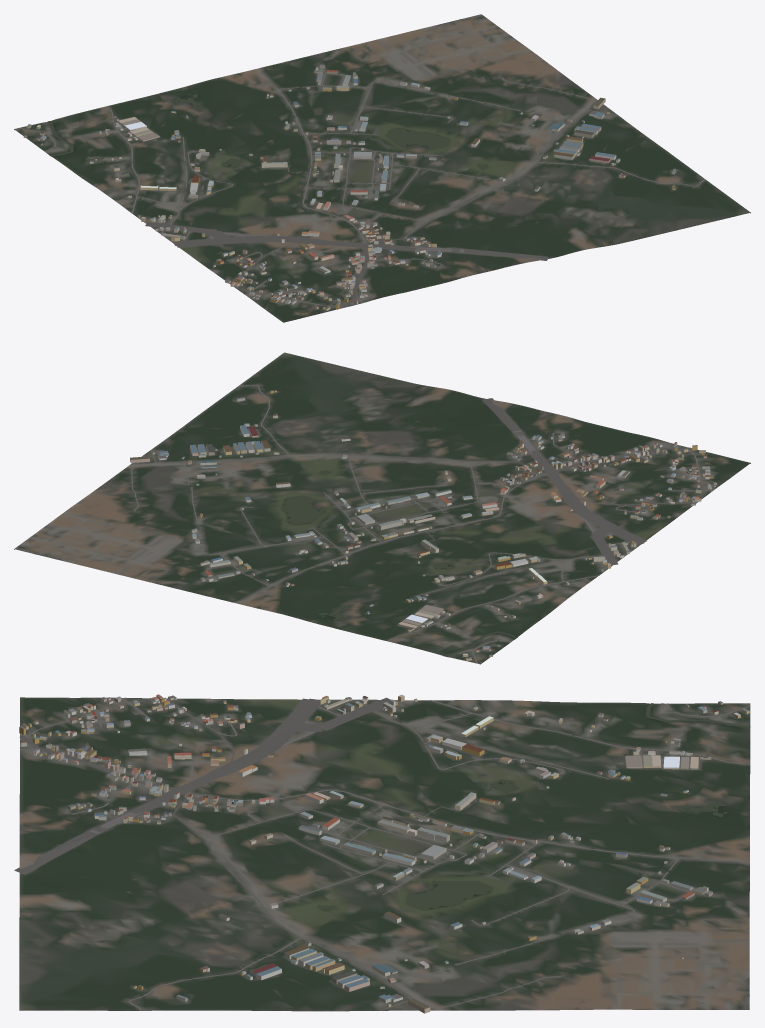
3 views of the same model, one above another, from view 1: azimuth 30°, elevation 25°; view 2: azimuth 150°, elevation 25°; view 3: azimuth 270°, elevation 25° (orthographic). The views are drawn at different scales.
Parts seen in each view (by area): view 1: ground, buildings, roads, water; view 2: ground, buildings, roads, water; view 3: ground, buildings, roads, water.
Boxes of the visible parts, x1=… form: ground: x1=14, y1=14, x2=750, y2=322; buildings: x1=23, y1=49, x2=675, y2=310; roads: x1=17, y1=15, x2=705, y2=308; water: x1=48, y1=94, x2=487, y2=174; ground: x1=14, y1=352, x2=750, y2=664; buildings: x1=115, y1=390, x2=716, y2=660; roads: x1=15, y1=385, x2=713, y2=663; water: x1=282, y1=470, x2=517, y2=656; ground: x1=19, y1=697, x2=750, y2=1011; buildings: x1=19, y1=694, x2=749, y2=1013; roads: x1=14, y1=697, x2=750, y2=1010; water: x1=319, y1=703, x2=750, y2=909.
Bounding box in the file's own units: 1423 × 30.54 × 1415.
